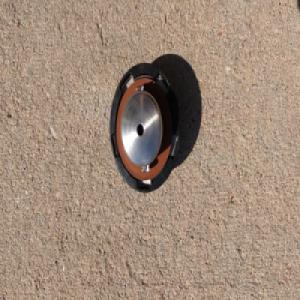FuelCap: (108, 60, 181, 196)
